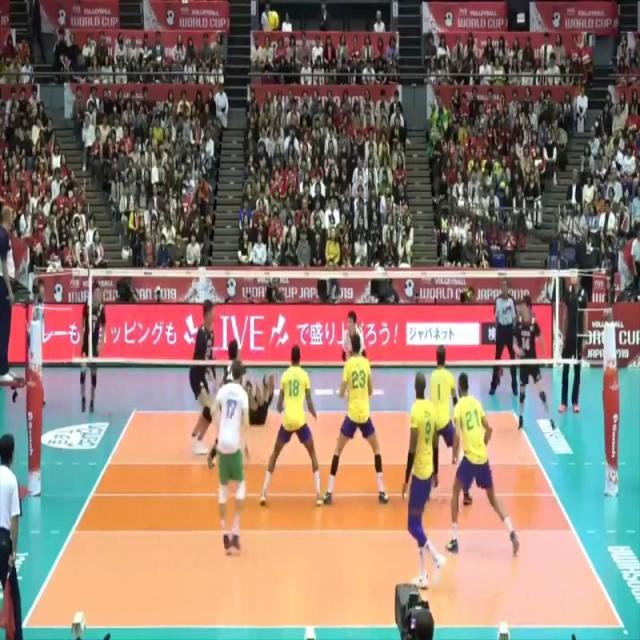volleyball: (266, 5, 282, 32)
